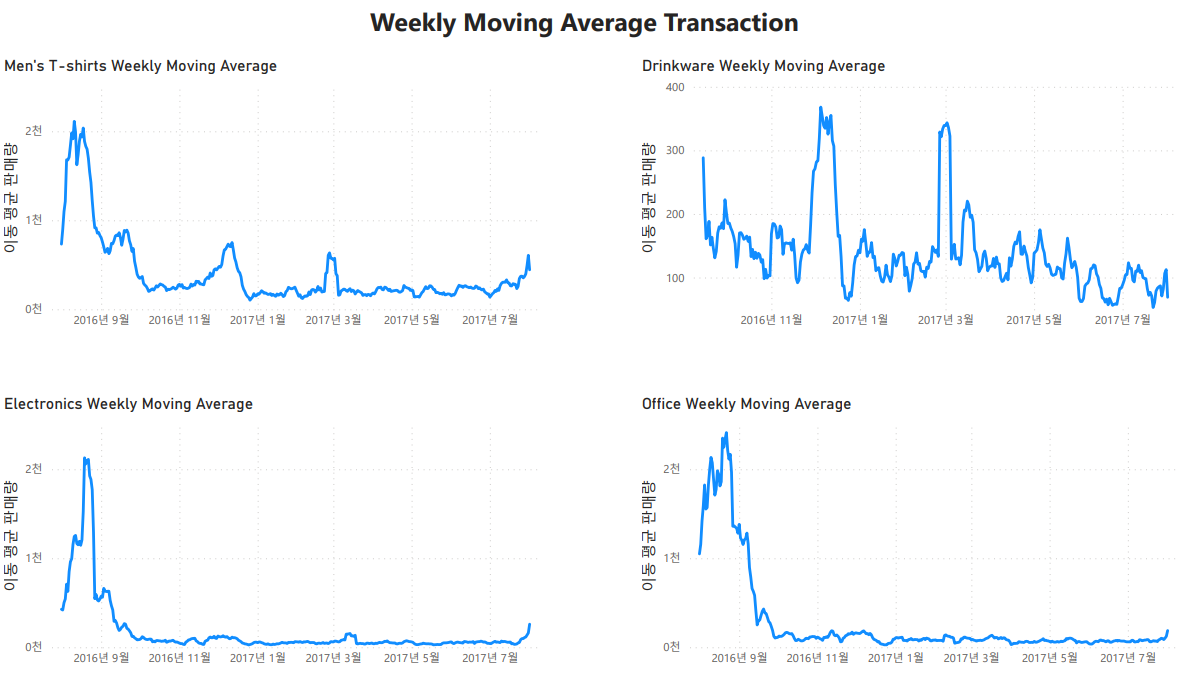

The page's visual inventory and layout, read from the dashboard file:
{"tool":"powerbi","page":{"name":"Weekly Moving Average","canvas":[1280,720],"ordinal":1},"visuals":[{"type":"lineChart","title":"Men''s T-shirts Weekly Moving Average","fields":{"Y":["Sum(쿼리1.avg_transactions)"],"Category":["쿼리1.date.변형.날짜 계층.연도","쿼리1.date.변형.날짜 계층.분기","쿼리1.date.변형.날짜 계층.월","쿼리1.date.변형.날짜 계층.일"]},"box":[0,60,600,300],"z":0},{"type":"lineChart","title":"Drinkware Weekly Moving Average","fields":{"Category":["Drinkware Weekly Moving Average.date.변형.날짜 계층.연도","Drinkware Weekly Moving Average.date.변형.날짜 계층.분기","Drinkware Weekly Moving Average.date.변형.날짜 계층.월","Drinkware Weekly Moving Average.date.변형.날짜 계층.일"],"Y":["Sum(Drinkware Weekly Moving Average.avg_transactions)"]},"box":[680,60,600,300],"z":1000},{"type":"lineChart","title":"Electronics Weekly Moving Average","fields":{"Y":["Sum(Electronics Weekly Moving Average.avg_transactions)"],"Category":["Electronics Weekly Moving Average.date.변형.날짜 계층.연도","Electronics Weekly Moving Average.date.변형.날짜 계층.분기","Electronics Weekly Moving Average.date.변형.날짜 계층.월","Electronics Weekly Moving Average.date.변형.날짜 계층.일"]},"box":[0,420,600,300],"z":2000},{"type":"lineChart","title":"Office Weekly Moving Average","fields":{"Y":["Sum(Office Weekly Moving Average.avg_transactions)"],"Category":["Office Weekly Moving Average.date.변형.날짜 계층.연도","Office Weekly Moving Average.date.변형.날짜 계층.분기","Office Weekly Moving Average.date.변형.날짜 계층.월","Office Weekly Moving Average.date.변형.날짜 계층.일"]},"box":[680,420,600,300],"z":3000},{"type":"textbox","box":[380,0,486.7,63.3],"z":3001}]}

Visuals, with their boxes in screenshot pixels (x1, y1, x2, y2), scaled from the page's 1280x720 canvas onto the 1204x682 screenshot:
"Men''s T-shirts Weekly Moving Average" lineChart: <box>0,57,564,341</box>
"Drinkware Weekly Moving Average" lineChart: <box>640,57,1203,341</box>
"Electronics Weekly Moving Average" lineChart: <box>0,398,564,681</box>
"Office Weekly Moving Average" lineChart: <box>640,398,1203,681</box>
textbox: <box>357,0,815,60</box>
